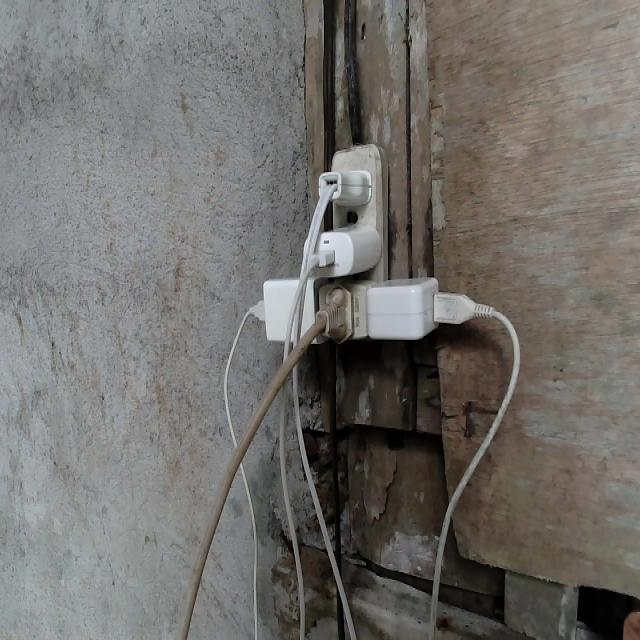-: (247, 144, 492, 343)
